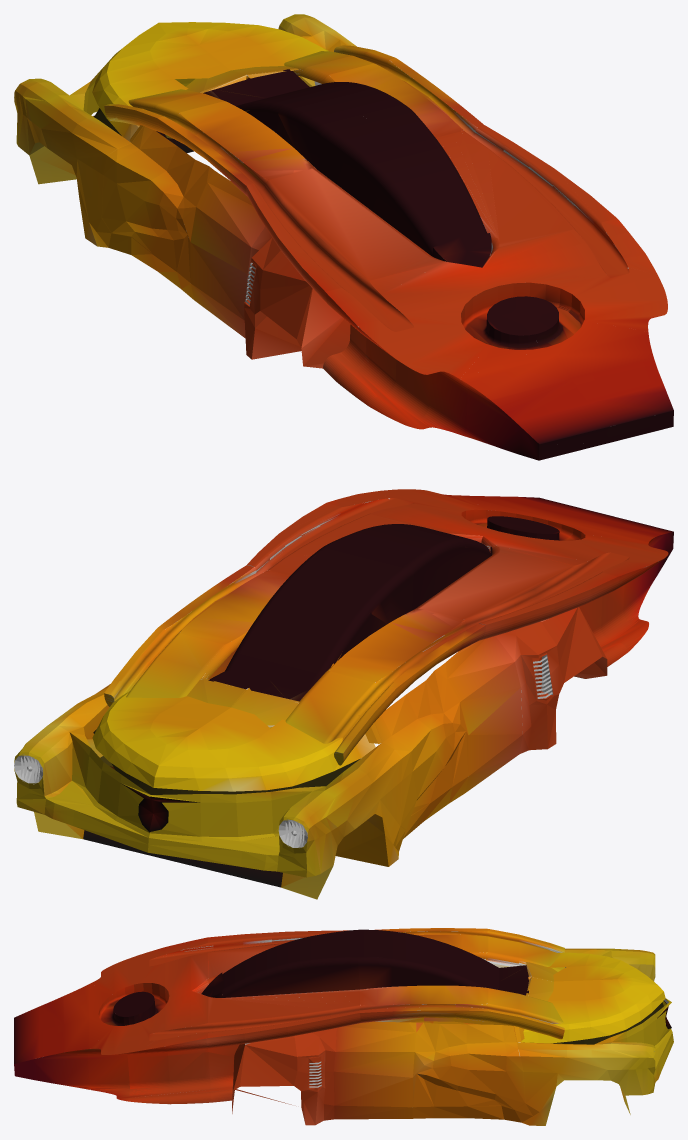
The model's file is auto2.fbx.
The picture shows the model from 3 angles, top to bottom: view 1: azimuth 30°, elevation 25°; view 2: azimuth 150°, elevation 25°; view 3: azimuth 270°, elevation 25°; orthographic projection. The views are drawn at different scales.
Parts seen in each view (by area): view 1: Mesh01, Mesh23; view 2: Mesh01, Mesh23, Mesh22; view 3: Mesh01, Mesh23, Mesh22.
Part boxes in pixels (left/top/right/bottom): Mesh01: left=14, top=14, right=673, bottom=460; Mesh23: left=92, top=22, right=328, bottom=142; Mesh01: left=14, top=489, right=673, bottom=899; Mesh23: left=92, top=691, right=375, bottom=791; Mesh22: left=93, top=729, right=360, bottom=794; Mesh01: left=14, top=928, right=673, bottom=1125; Mesh23: left=521, top=952, right=665, bottom=1043; Mesh22: left=553, top=967, right=663, bottom=1044.
Size of the model in its own units: 7.59 by 4.25 by 19.63.
